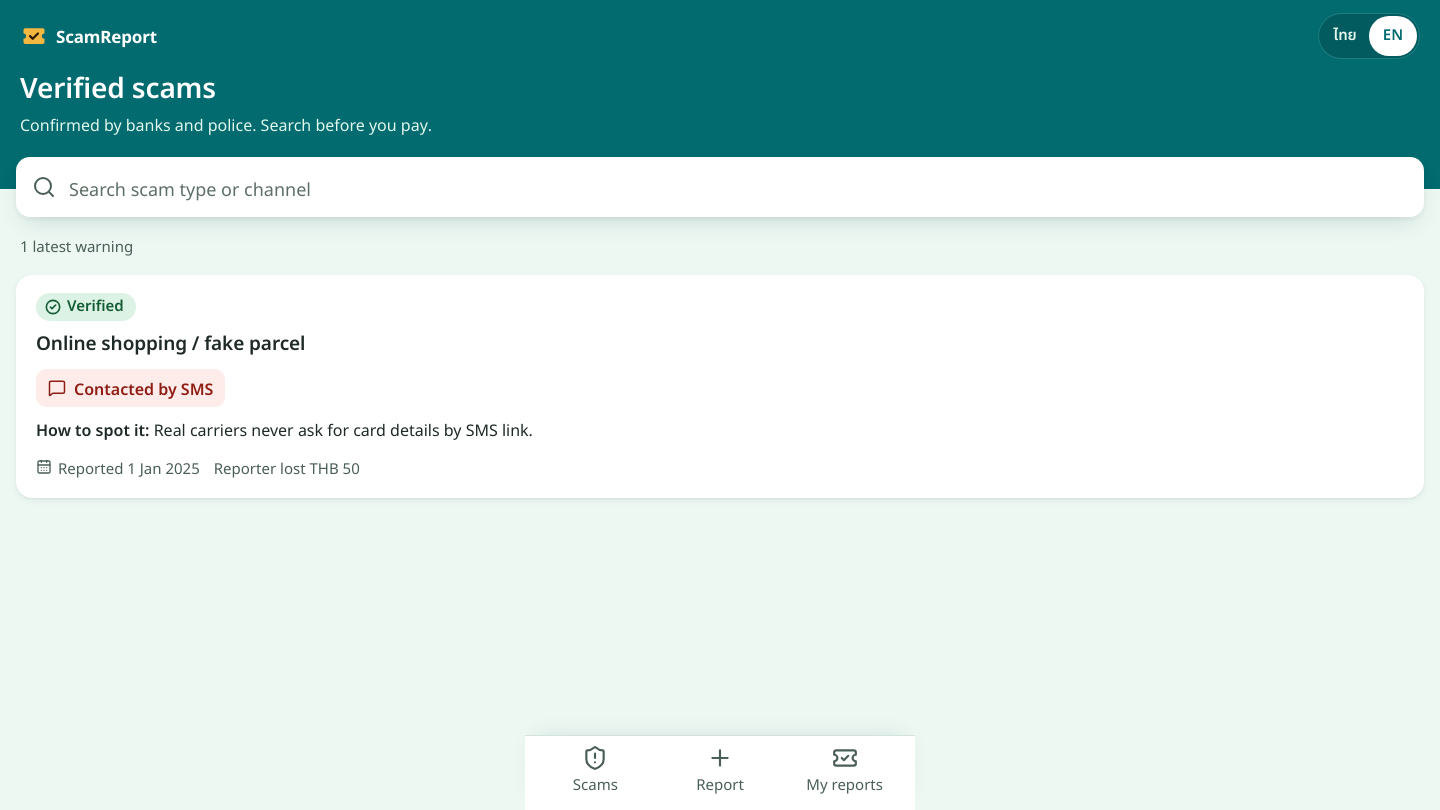
changing feed criteria hides earlier warnings until matching results arrive
Expected: the heading "Online shopping / fake parcel" is shown, [36,330,305,359]
Type "investment" into the search field named "Search scams".
click(720, 187); type("investment")  # box [16,157,1424,217]
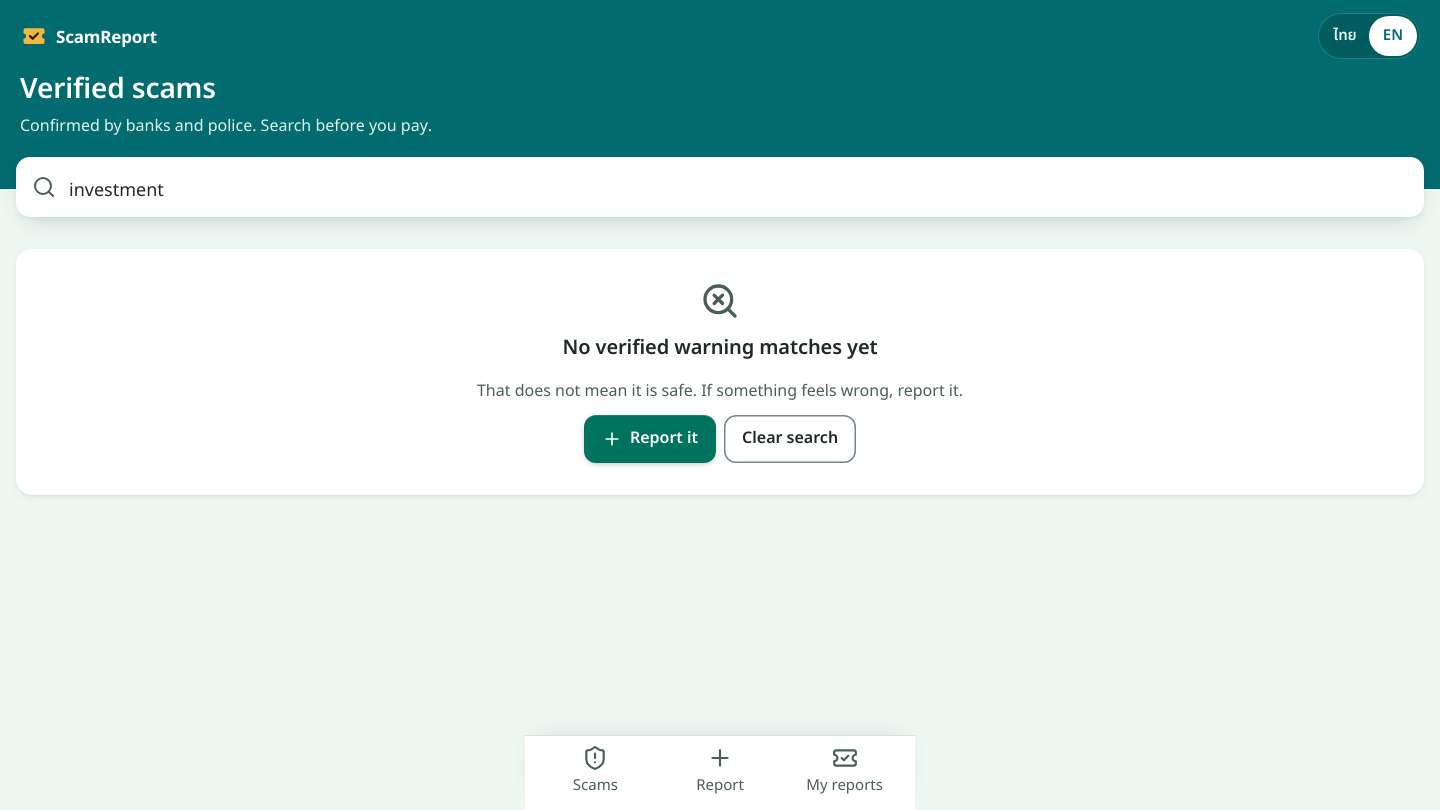
Now the heading "Online shopping / fake parcel" is gone
Now the heading "No verified warning matches yet" is shown, box [562,333,878,364]
